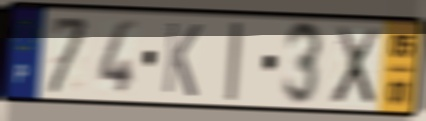3: (280, 17, 325, 112)
4: (96, 17, 137, 97)
7: (48, 15, 91, 95)
I: (223, 19, 244, 104)
K: (160, 19, 204, 100)
X: (329, 24, 382, 108)
